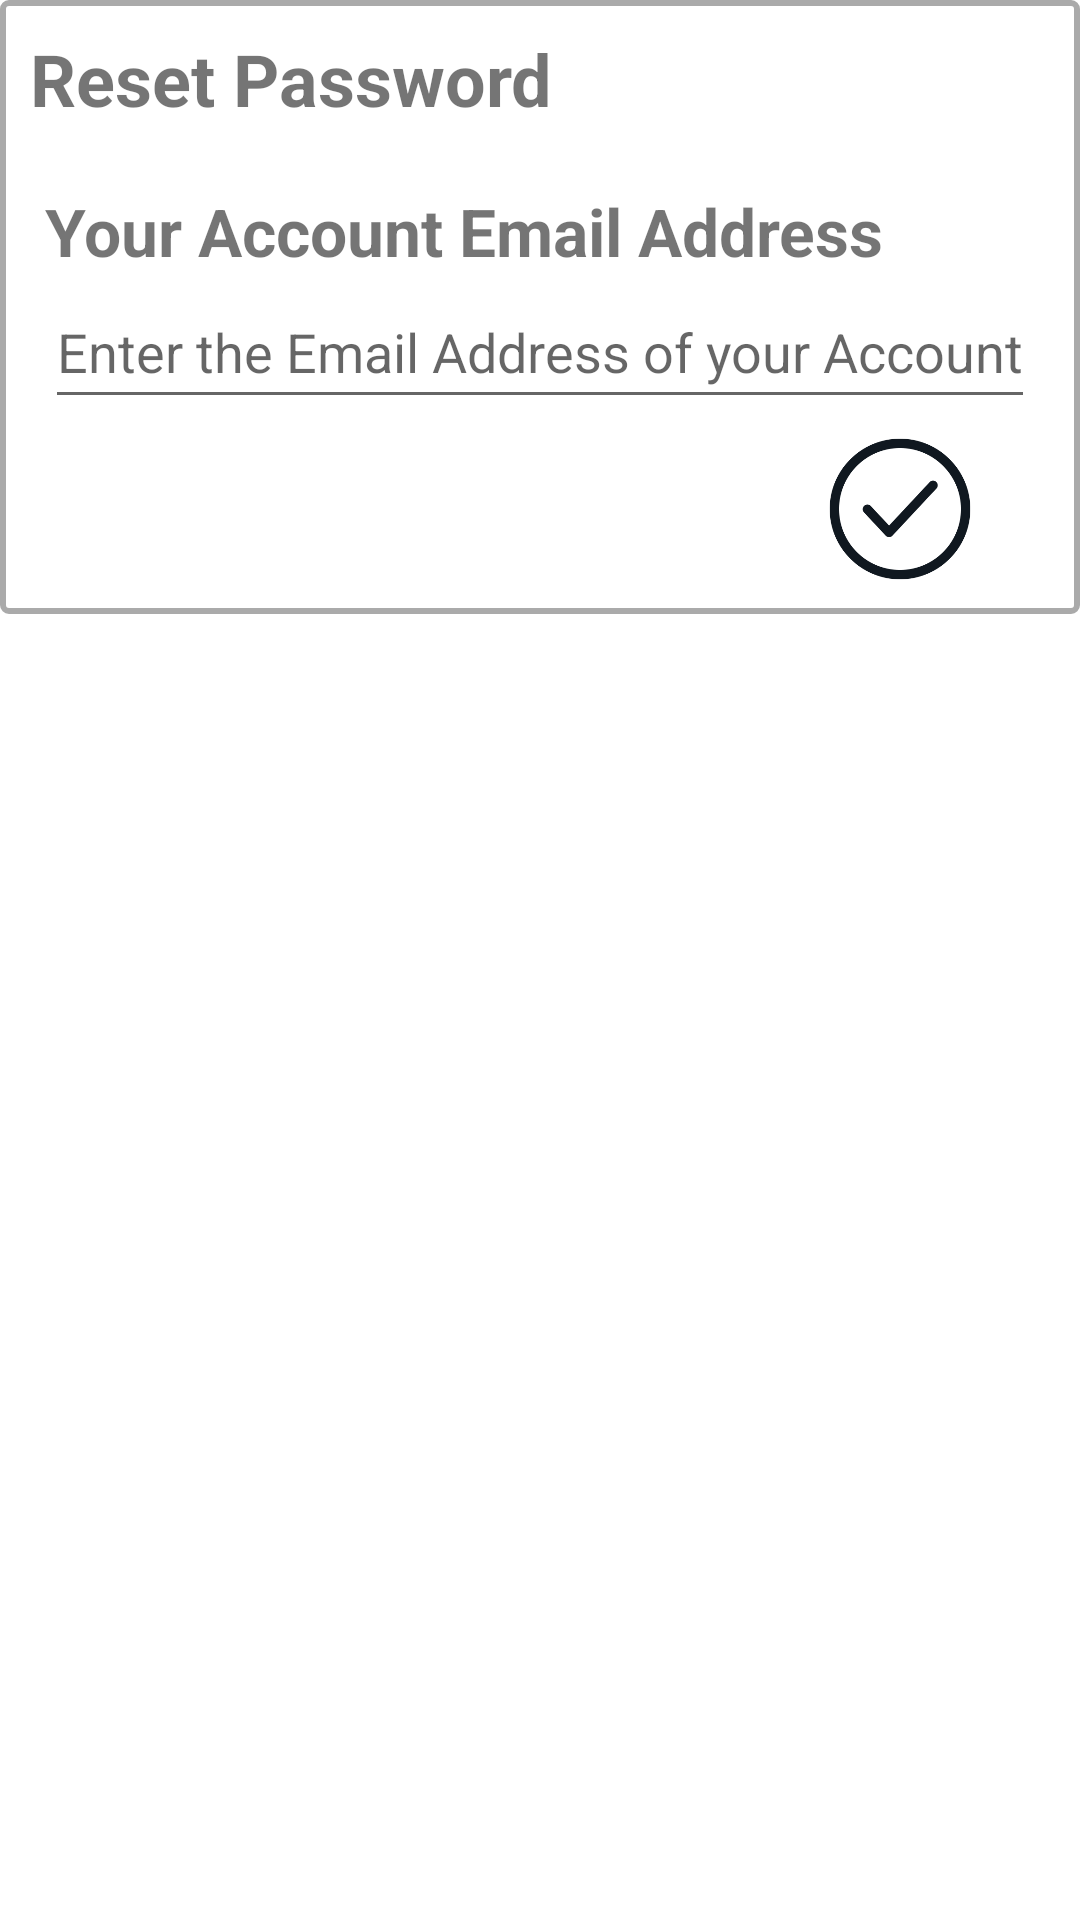

Locate icon controls on the screen. Image size 1080px×1920px, boxes as (x1, y1, x2, y2).
Confirm Reset Password: (830, 439, 970, 579)
